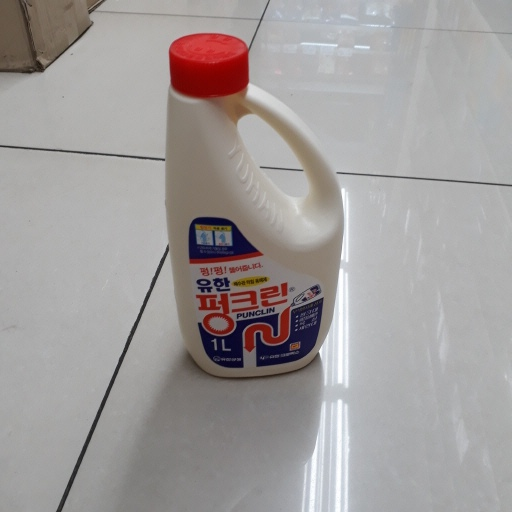Plastic_1: (165, 31, 343, 380)
